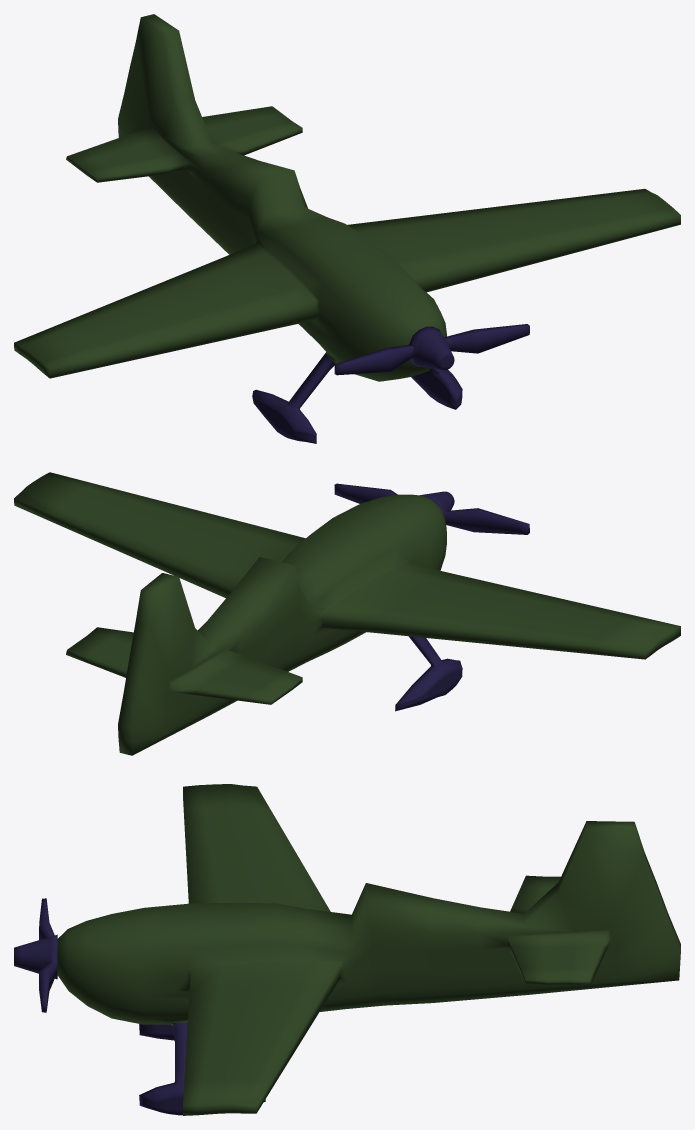
The model's file is avion.fbx.
3 renders of one model, top to bottom at view 1: azimuth 30°, elevation 25°; view 2: azimuth 150°, elevation 25°; view 3: azimuth 270°, elevation 25°, orthographic. The views are drawn at different scales.
Visible parts, largest first — view 1: Cube, Cube.001; view 2: Cube, Cube.001; view 3: Cube, Cube.001.
Part boxes in pixels (x1,y1,x2,y2): Cube: (14,14,680,443); Cube.001: (334,324,529,375); Cube: (14,472,680,755); Cube.001: (334,483,529,534); Cube: (57,784,680,1115); Cube.001: (14,898,57,1012).
Size of the model in its own units: 495 by 182 by 437.
